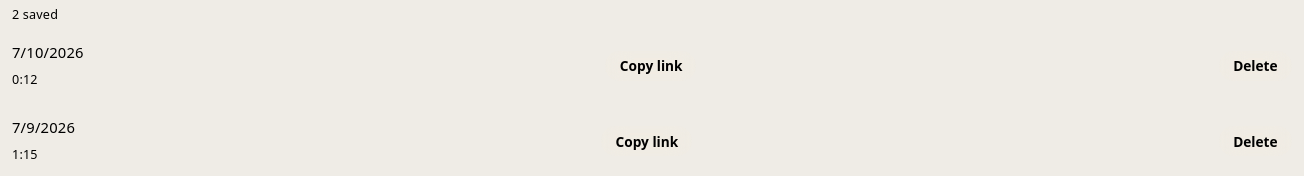
Test case: RecordingsPanel › deletes a recording and removes its row on click
This screenshot has width=1304, height=176.
Click the button with aria-label "delete recording".
click(1255, 66)  # box [1219, 51, 1292, 81]
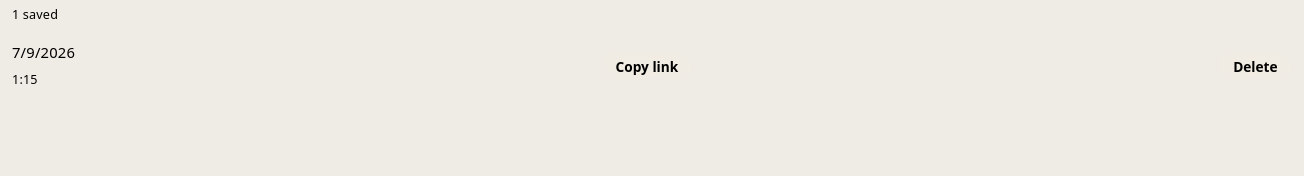
expect the number of buttons named "delete recording" is 1: met, box [1219, 51, 1292, 81]
expect the text "2 saved" is gone: met
expect the text "1 saved" is shown: met, box [12, 6, 58, 23]
